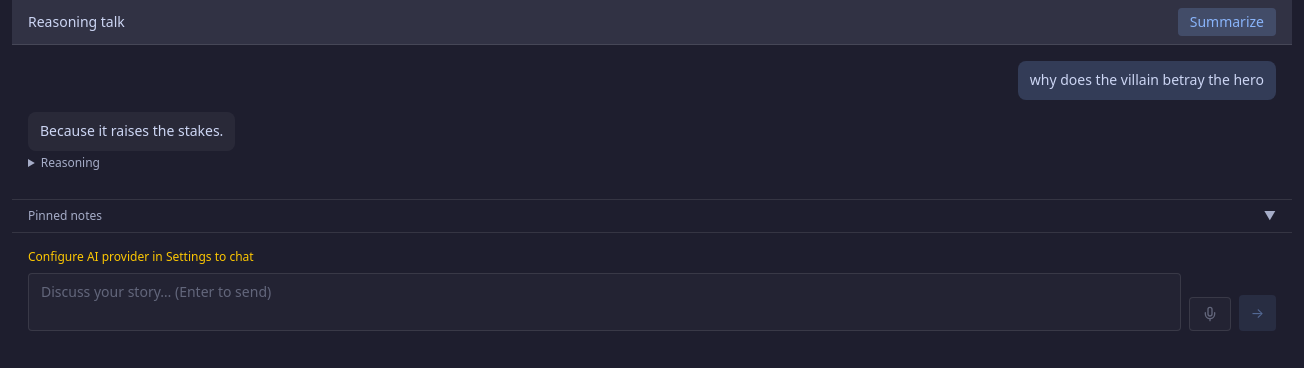
reasoning › shows reasoning saved on an earlier reply, collapsed
The image size is (1304, 368).
Check: the text "Because it raises the stakes." is shown, box [40, 120, 223, 143]
Click the heading "Reasoning".
click(70, 162)  # box [41, 154, 100, 170]
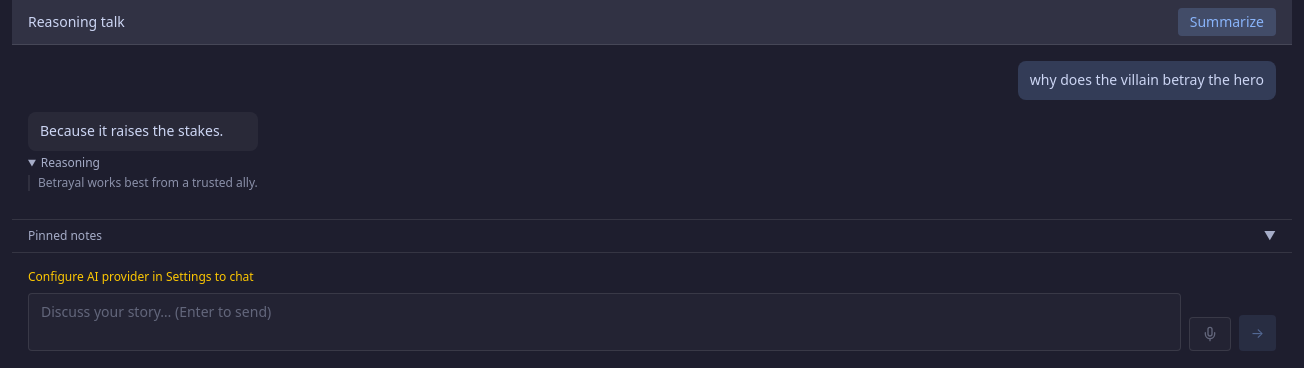
Check: the text "Betrayal works best from a trusted ally." is shown, box [28, 174, 258, 190]
